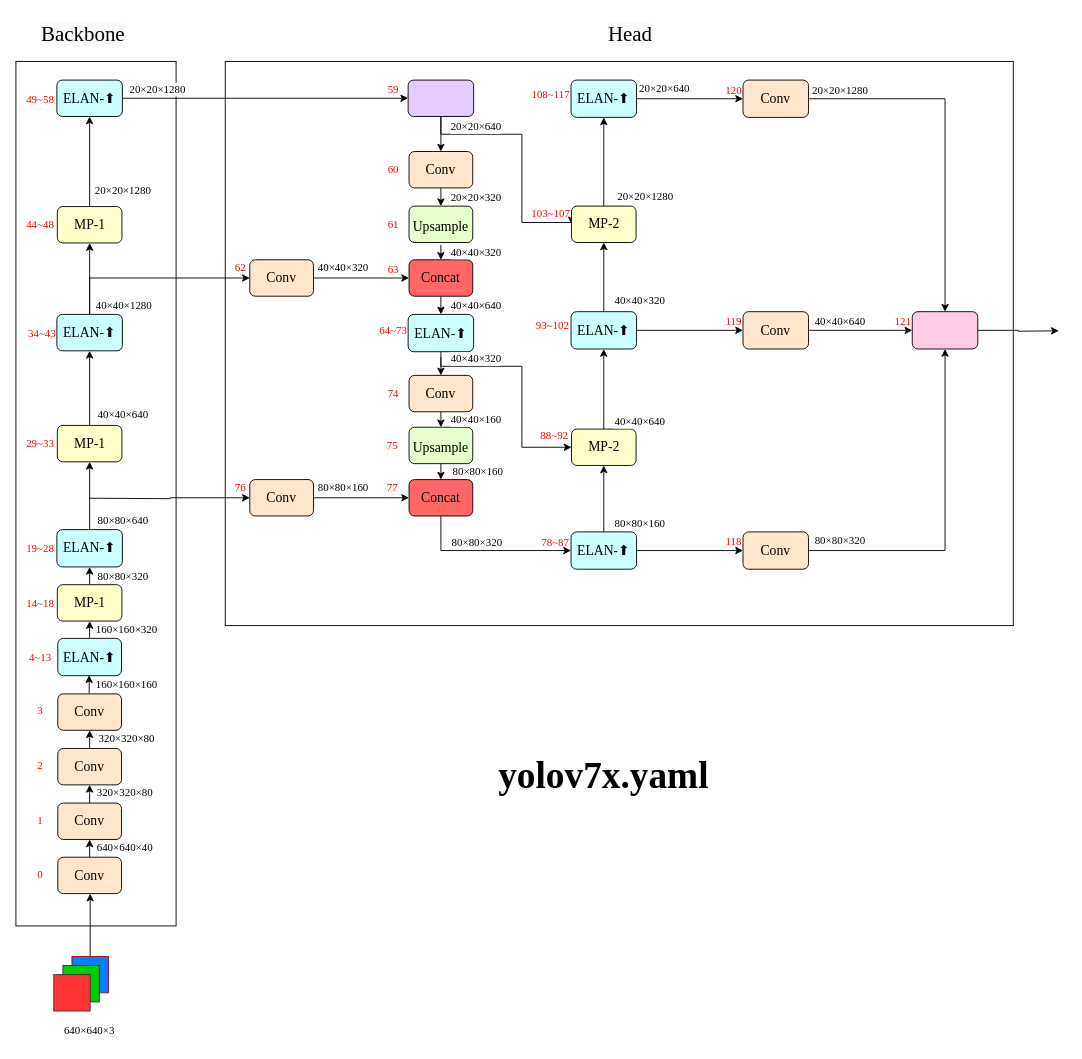
This 1082x1059 diagram has some shape labels left out. Each missing label, with the centre of its shape:
Detect: (x=944, y=330)
SPPCSPC: (x=440, y=97)
